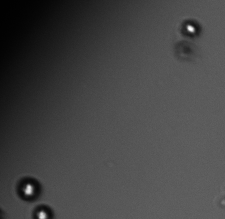Dead Cell: (177, 42, 197, 58)
Living Cell: (16, 175, 40, 200), (182, 20, 201, 36)
